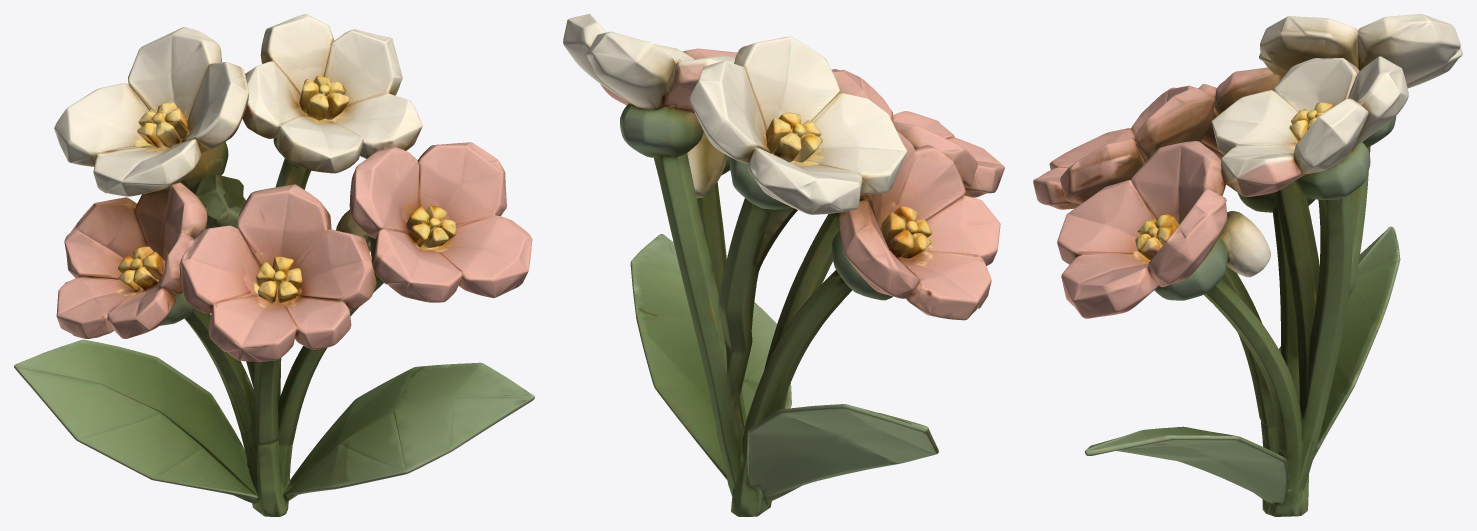
The model's file is flower_cluster.glb.
3 views of the same model, side by side, from view 1: azimuth 30°, elevation 25°; view 2: azimuth 150°, elevation 25°; view 3: azimuth 270°, elevation 25° (orthographic). The views are drawn at different scales.
Visible parts, largest first — view 1: node_0; view 2: node_0; view 3: node_0.
Boxes of the visible parts, <box> form: node_0: <box>14,14,534,516</box>; node_0: <box>563,14,1004,516</box>; node_0: <box>1033,14,1462,516</box>.
Size of the model in its own units: 0.9257 by 0.9884 by 0.7993.
Materials: 1 (1 with a texture image).
